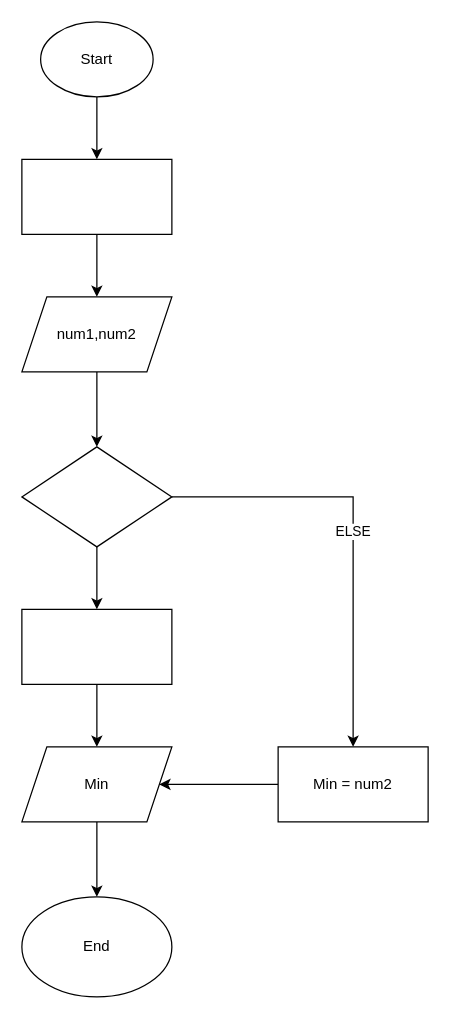
This 450x1019 diagram has some shape labels left out. Each missing label, with the box of its shape:
min = num1: (21, 608, 172, 684)
num1 < num2: (21, 446, 172, 547)
num1,num2,min: (21, 158, 172, 234)
